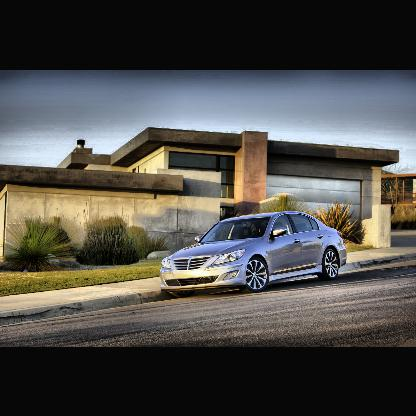Hyundai Genesis Sedan 2012: (162, 211, 349, 295)
